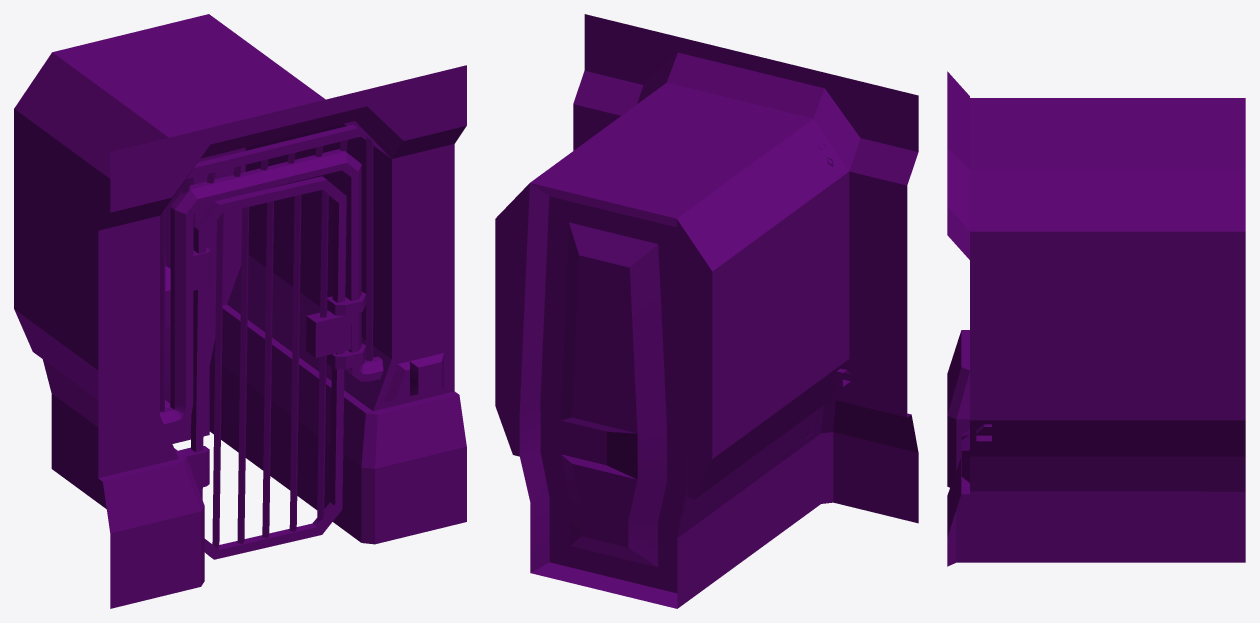
File: mesh_BuildingA_Door2_v2.fbx
3 views of the same model, side by side, from view 1: azimuth 30°, elevation 25°; view 2: azimuth 150°, elevation 25°; view 3: azimuth 270°, elevation 25° (orthographic). The views are drawn at different scales.
Parts seen in each view (by area): view 1: mesh_BuildingA_Door2; view 2: mesh_BuildingA_Door2; view 3: mesh_BuildingA_Door2.
Part boxes in pixels (x1,y1,x2,y2): mesh_BuildingA_Door2: (14,14,466,608); mesh_BuildingA_Door2: (495,14,918,608); mesh_BuildingA_Door2: (947,71,1245,566).
Bounding box in the file's own units: 164 × 200 × 126.
